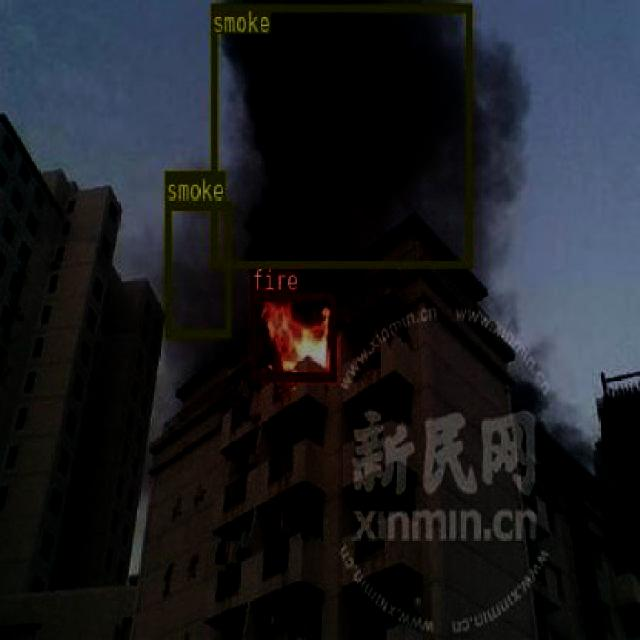fire: (251, 292, 335, 379)
smoke: (210, 2, 470, 267), (164, 201, 230, 336)
